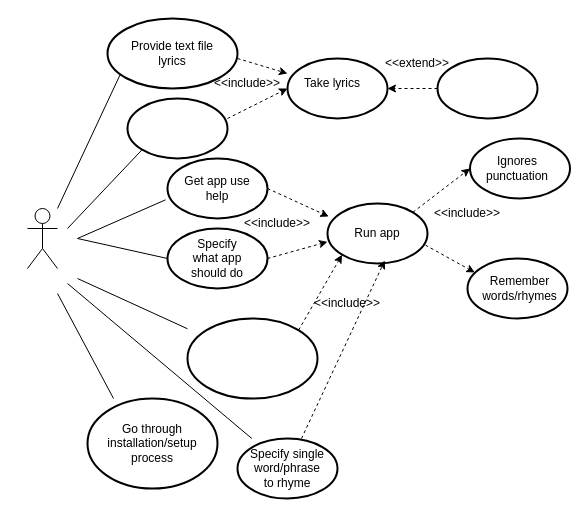
Some shapes in this 588 by 516 pixel diagram are drawn without their labels. The centre of each missing label's shape, as x and y in pixels:
App User: the point at 42,238
Generate wrong file format error: the point at 487,88
Get color coded rhyme scheme: the point at 252,358
Type lyrics into app: the point at 177,128
